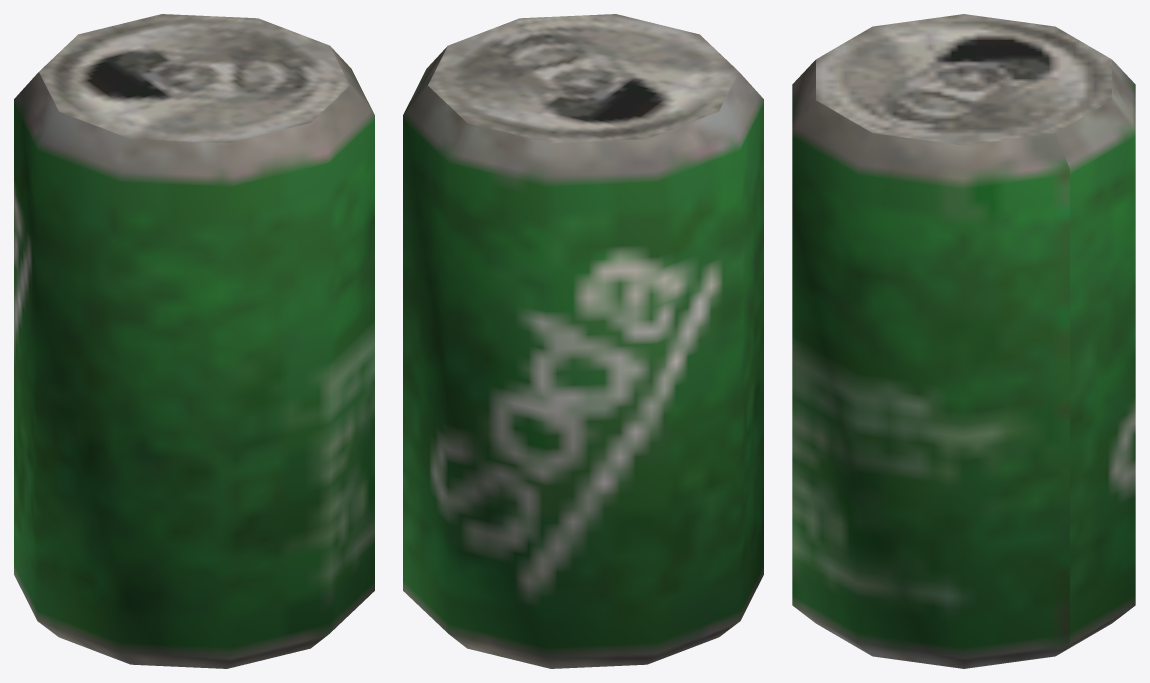
Rendered from can_green.dae.
The picture shows the model from 3 angles, left to right: view 1: azimuth 30°, elevation 25°; view 2: azimuth 150°, elevation 25°; view 3: azimuth 270°, elevation 25°; orthographic projection.
Visible parts, largest first — view 1: pCylinder6; view 2: pCylinder6; view 3: pCylinder6.
Part boxes in pixels (x1,y1,x2,y2): pCylinder6: (14, 14, 374, 668); pCylinder6: (403, 14, 763, 668); pCylinder6: (792, 14, 1135, 668).
Size of the model in its own units: 11.42 by 18.26 by 10.86.
